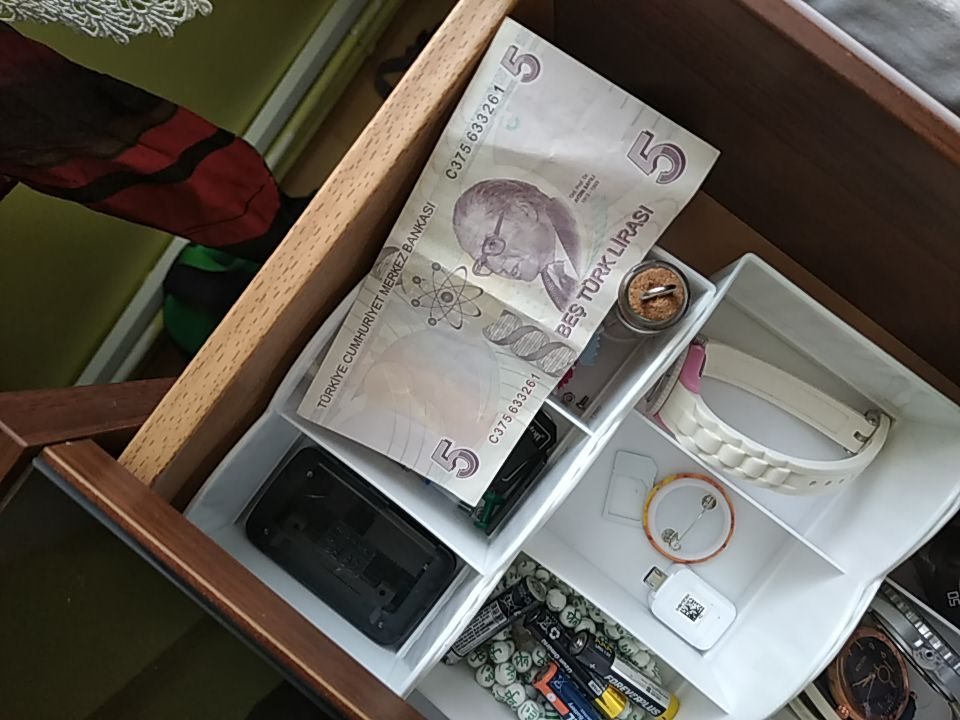5TL: (294, 12, 721, 513)
